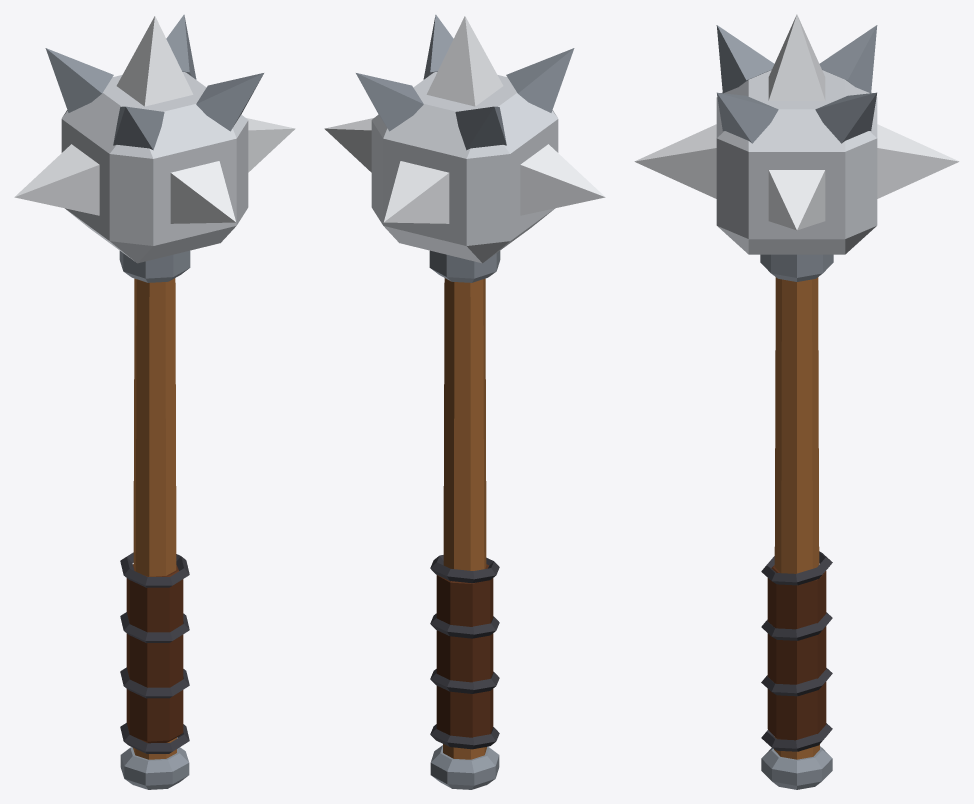
File: IronMace.fbx
3 views of the same model, side by side, from view 1: azimuth 30°, elevation 25°; view 2: azimuth 150°, elevation 25°; view 3: azimuth 270°, elevation 25° (orthographic).
Visible parts, largest first — view 1: IronMace; view 2: IronMace; view 3: IronMace.
Boxes of the visible parts, bbox=[...] form: IronMace: bbox=[14, 14, 295, 789]; IronMace: bbox=[324, 14, 605, 789]; IronMace: bbox=[634, 14, 959, 789].
Bounding box in the file's own units: 1.42 × 3.68 × 1.42.
Materials: 1 (1 with a texture image).
